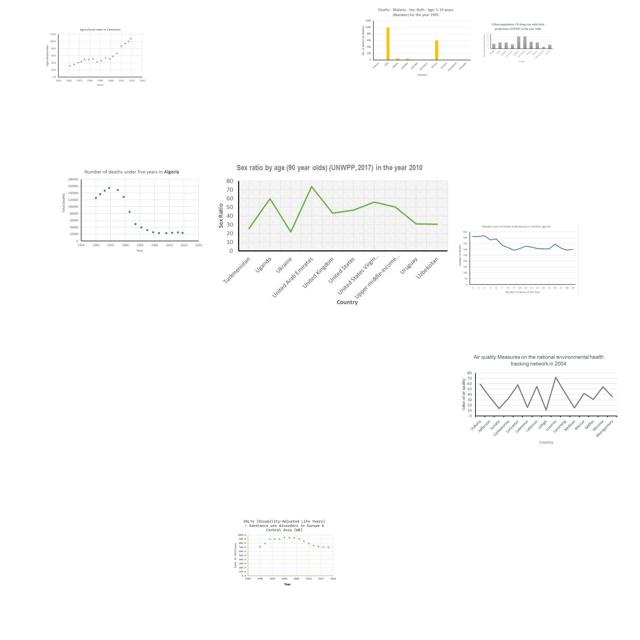Graph: (212, 160, 452, 306), (458, 351, 620, 449), (58, 166, 205, 257), (455, 223, 579, 297), (359, 6, 472, 77), (232, 518, 337, 587), (43, 26, 147, 87), (482, 22, 554, 63)
